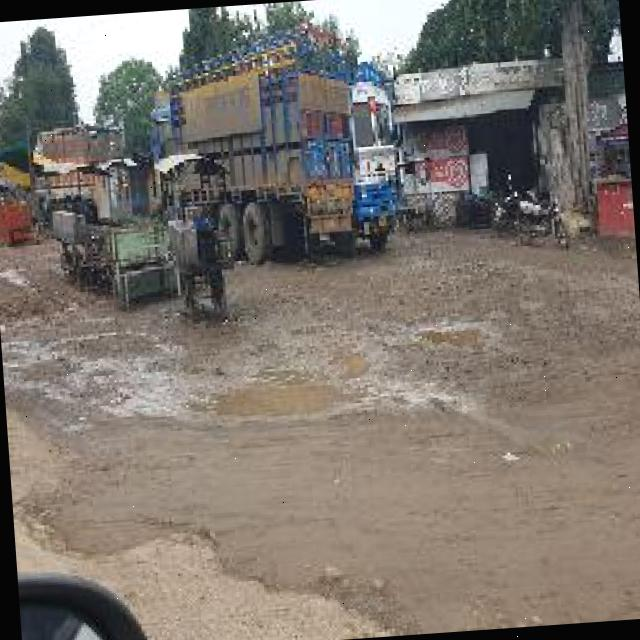stagnation: (175, 329, 371, 447), (405, 314, 498, 364)
